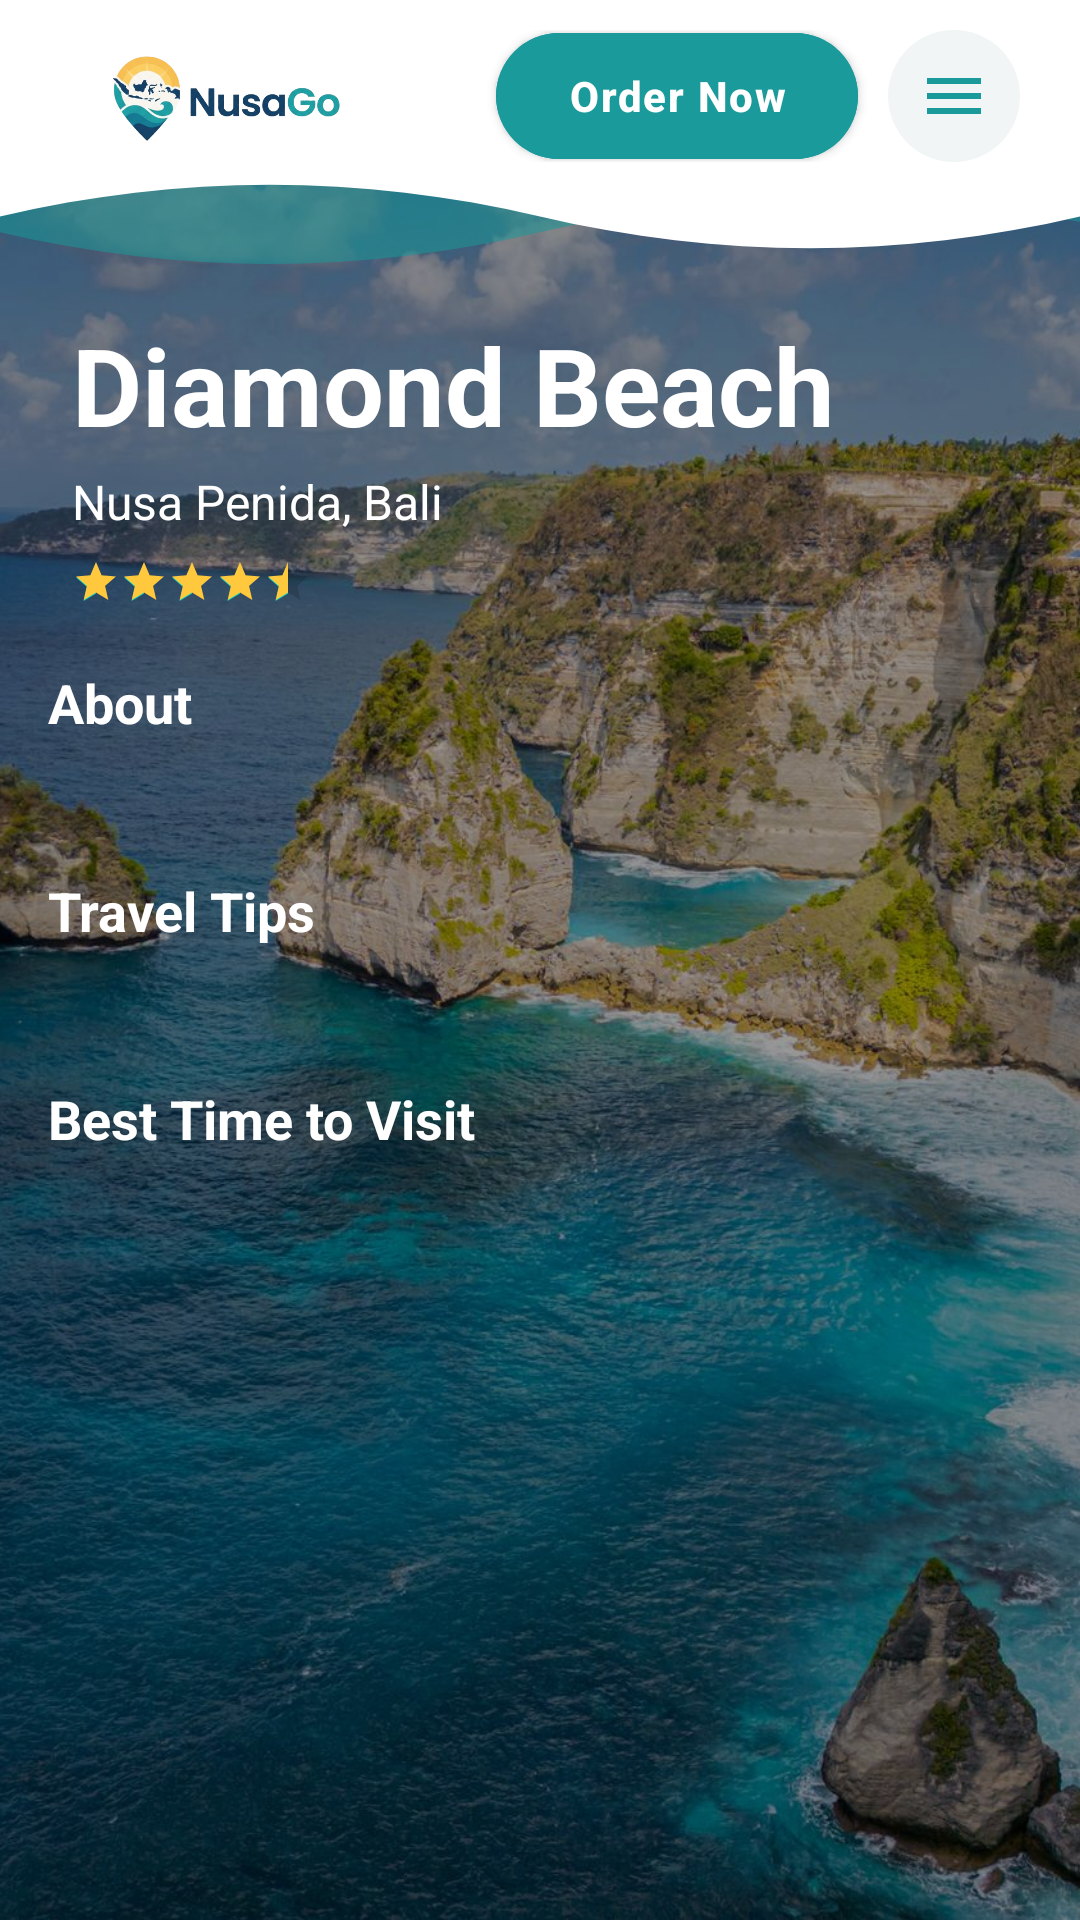

Locate icon controls on the screen. Image size 1080x1920, boxes as (x1, y1, x2, y2).
Open menu: (927, 78, 981, 114)
